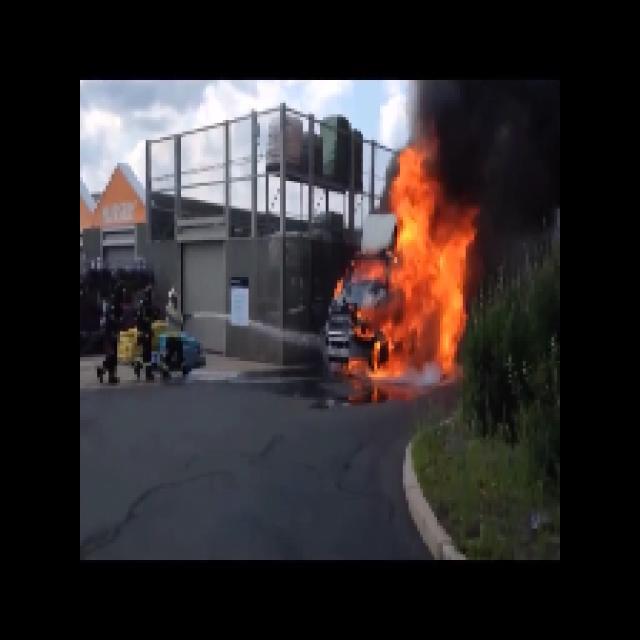fire: (354, 169, 474, 375)
smoke: (430, 78, 554, 172)
